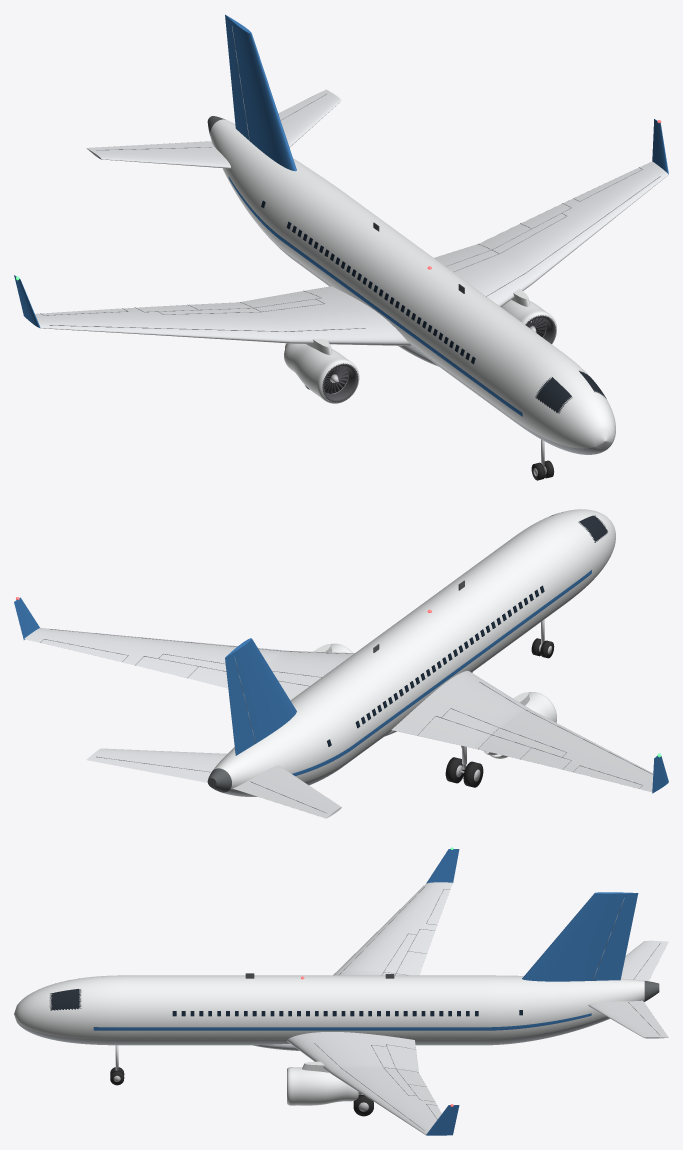
The model's file is airliner.glb.
3 views of the same model, one above another, from view 1: azimuth 30°, elevation 25°; view 2: azimuth 150°, elevation 25°; view 3: azimuth 270°, elevation 25° (orthographic). The views are drawn at different scales.
Visible parts, largest first — view 1: white, wing, blue, nacelle, lines, stripe, belly, windows, nac_in, glass, fan; view 2: white, wing, blue, lines, stripe, tire, windows, nacelle, belly, dark; view 3: white, wing, blue, belly, nacelle, stripe, windows, lines, glass, tire.
Boxes of the visible parts, x1=… form: white: x1=210, y1=119, x2=615, y2=448; wing: x1=35, y1=89, x2=668, y2=345; blue: x1=14, y1=14, x2=668, y2=327; nacelle: x1=284, y1=288, x2=556, y2=403; lines: x1=40, y1=26, x2=660, y2=331; stripe: x1=228, y1=176, x2=522, y2=416; belly: x1=258, y1=225, x2=612, y2=454; windows: x1=261, y1=200, x2=475, y2=364; nac_in: x1=322, y1=315, x2=556, y2=402; glass: x1=535, y1=371, x2=606, y2=413; fan: x1=324, y1=317, x2=546, y2=393; white: x1=213, y1=509, x2=615, y2=789; wing: x1=24, y1=628, x2=653, y2=818; blue: x1=14, y1=597, x2=668, y2=793; lines: x1=40, y1=629, x2=652, y2=813; stripe: x1=292, y1=570, x2=591, y2=775; tire: x1=445, y1=638, x2=554, y2=787; windows: x1=327, y1=585, x2=544, y2=746; nacelle: x1=313, y1=643, x2=556, y2=758; belly: x1=221, y1=571, x2=600, y2=796; dark: x1=207, y1=580, x2=464, y2=792; white: x1=14, y1=975, x2=644, y2=1039; wing: x1=287, y1=882, x2=668, y2=1134; blue: x1=426, y1=849, x2=638, y2=1135; belly: x1=15, y1=1000, x2=644, y2=1050; nacelle: x1=287, y1=1061, x2=358, y2=1105; stripe: x1=93, y1=1013, x2=591, y2=1030; windows: x1=172, y1=1010, x2=522, y2=1016; lines: x1=314, y1=887, x2=660, y2=1130; glass: x1=49, y1=989, x2=81, y2=1010; tire: x1=110, y1=1067, x2=373, y2=1116.
Size of the model in its own units: 34.9 by 11.95 by 37.45.
